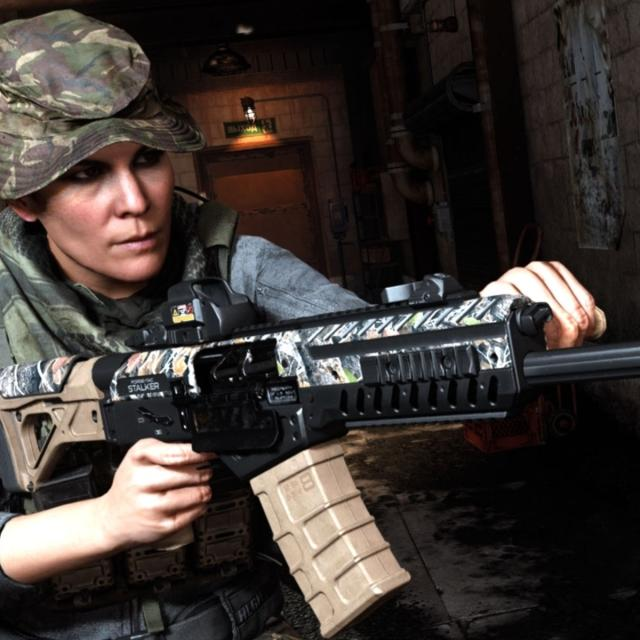Rifle: (0, 295, 640, 640)
